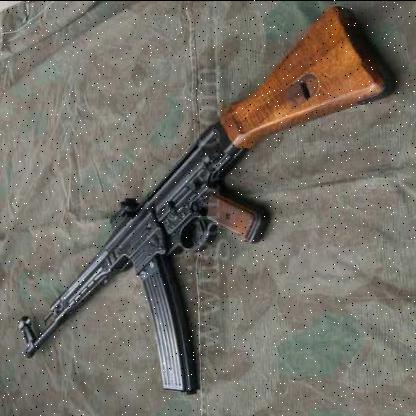rifle: (16, 1, 400, 395)
